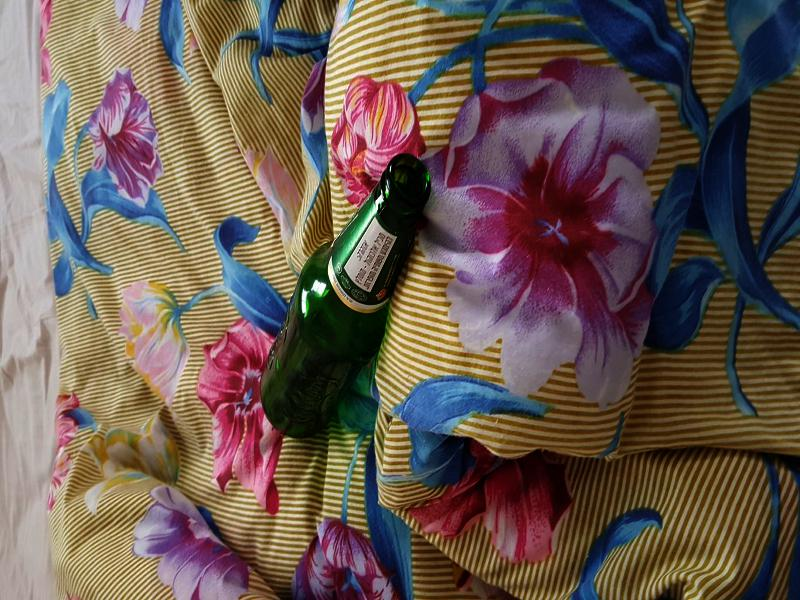Beer: (261, 155, 432, 434)
